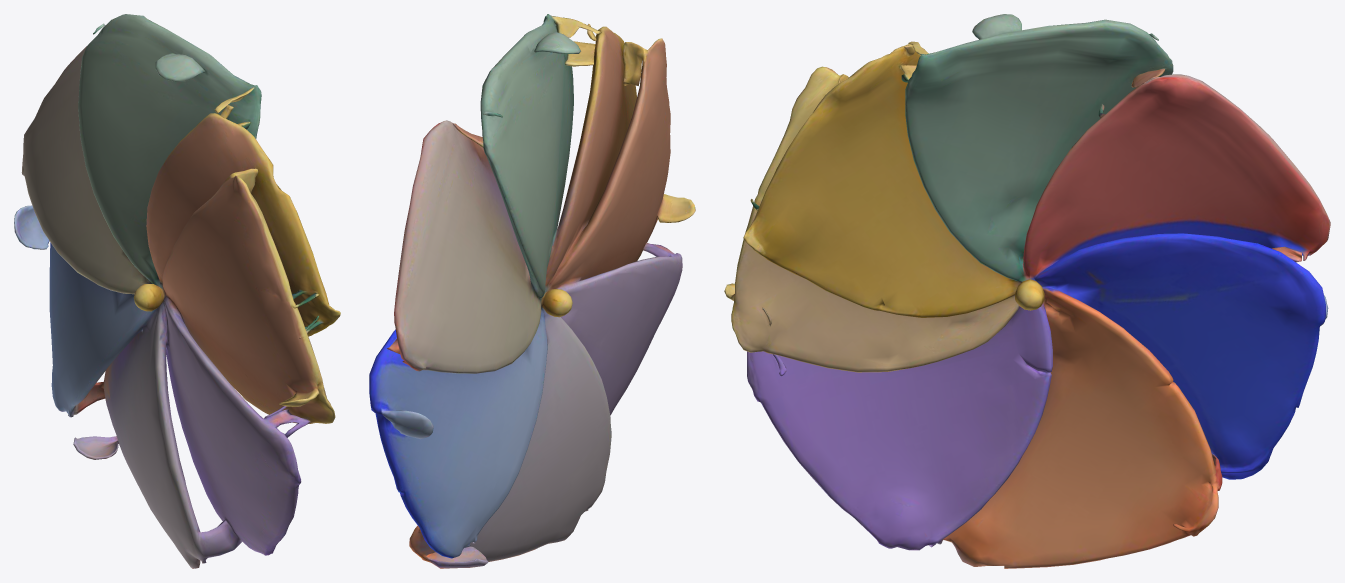
File: swatches.glb
The picture shows the model from 3 angles, left to right: view 1: azimuth 30°, elevation 25°; view 2: azimuth 150°, elevation 25°; view 3: azimuth 270°, elevation 25°; orthographic projection. The views are drawn at different scales.
Parts seen in each view (by area): view 1: tripo_node_8cca30bc-dfdf-4c8c-bd9b-5911669d5857; view 2: tripo_node_8cca30bc-dfdf-4c8c-bd9b-5911669d5857; view 3: tripo_node_8cca30bc-dfdf-4c8c-bd9b-5911669d5857.
Part boxes in pixels (<box>): tripo_node_8cca30bc-dfdf-4c8c-bd9b-5911669d5857: <box>14,14,340,568</box>; tripo_node_8cca30bc-dfdf-4c8c-bd9b-5911669d5857: <box>369,14,695,568</box>; tripo_node_8cca30bc-dfdf-4c8c-bd9b-5911669d5857: <box>724,14,1330,568</box>.
Bounding box in the file's own units: 0.1647 × 1 × 0.998.
Materials: 1 (1 with a texture image).
